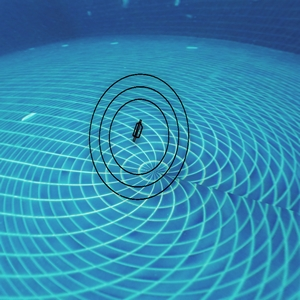circle: (85, 63, 198, 214)
submarine: (131, 122, 143, 135)
